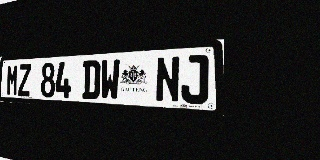4: (55, 61, 71, 98)
8: (41, 62, 56, 98)
D: (82, 60, 100, 100)
J: (181, 54, 209, 104)
M: (6, 64, 19, 96)
N: (155, 56, 180, 103)
W: (100, 59, 120, 100)
Z: (18, 64, 31, 97)
